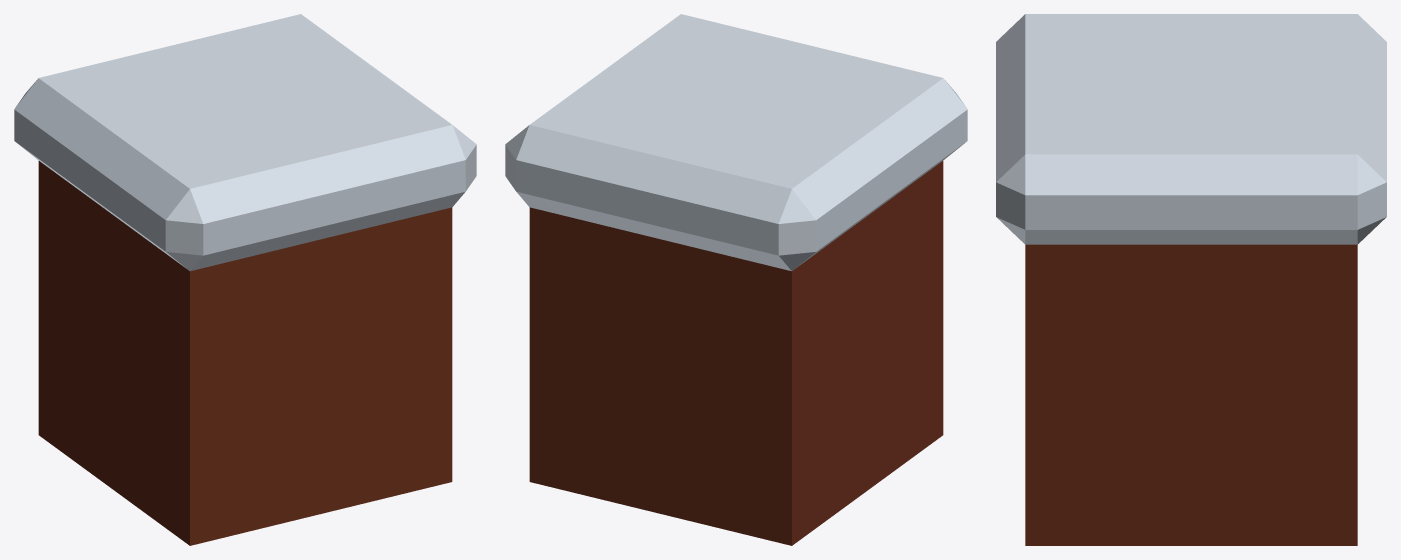
Rendered from SnowSingle.fbx.
3 renders of one model, left to right at view 1: azimuth 30°, elevation 25°; view 2: azimuth 150°, elevation 25°; view 3: azimuth 270°, elevation 25°, orthographic. The views are drawn at different scales.
Visible parts, largest first — view 1: Cube.008; view 2: Cube.008; view 3: Cube.008.
Boxes of the visible parts, bbox=[...] form: Cube.008: bbox=[14, 14, 476, 545]; Cube.008: bbox=[505, 14, 967, 545]; Cube.008: bbox=[996, 14, 1386, 545].
Bounding box in the file's own units: 119 × 130 × 118.
